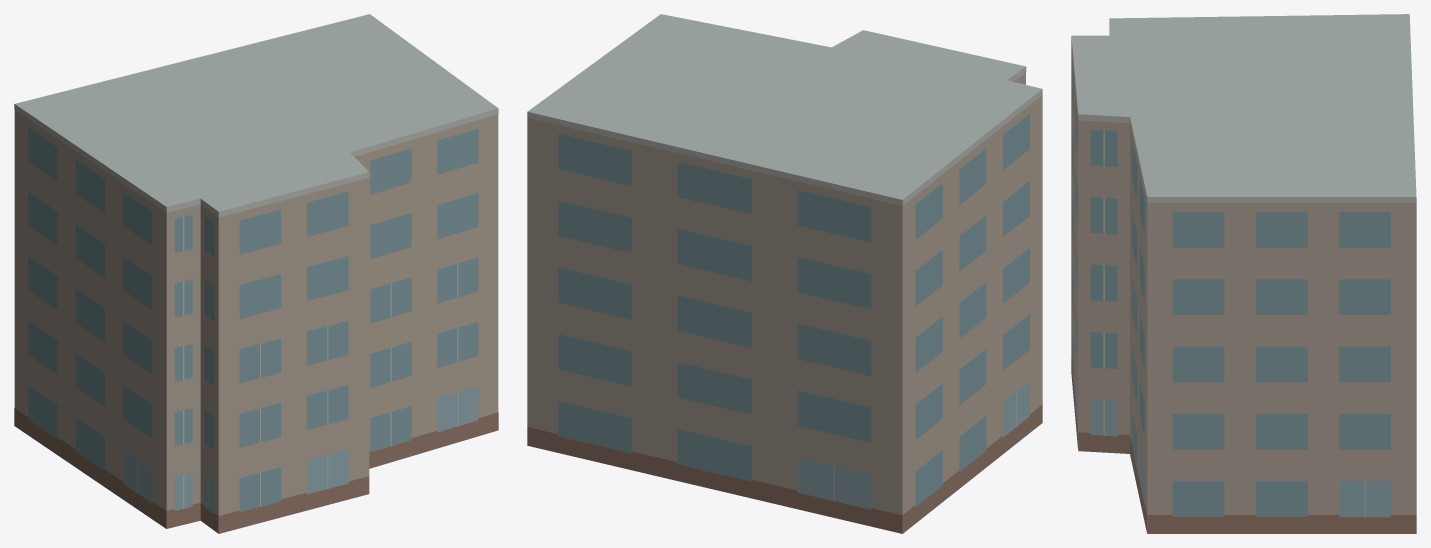
Rendered from survey-upis-32604730.glb.
3 views of the same model, side by side, from view 1: azimuth 30°, elevation 25°; view 2: azimuth 150°, elevation 25°; view 3: azimuth 270°, elevation 25° (orthographic). The views are drawn at different scales.
Parts seen in each view (by area): view 1: survey-upis-32604730.tmp; view 2: survey-upis-32604730.tmp; view 3: survey-upis-32604730.tmp.
Part boxes in pixels (x1,y1,x2,y2): survey-upis-32604730.tmp: (14, 14, 498, 533); survey-upis-32604730.tmp: (527, 14, 1042, 533); survey-upis-32604730.tmp: (1071, 14, 1416, 533).
Bounding box in the file's own units: 15.75 × 13.5 × 12.54.
